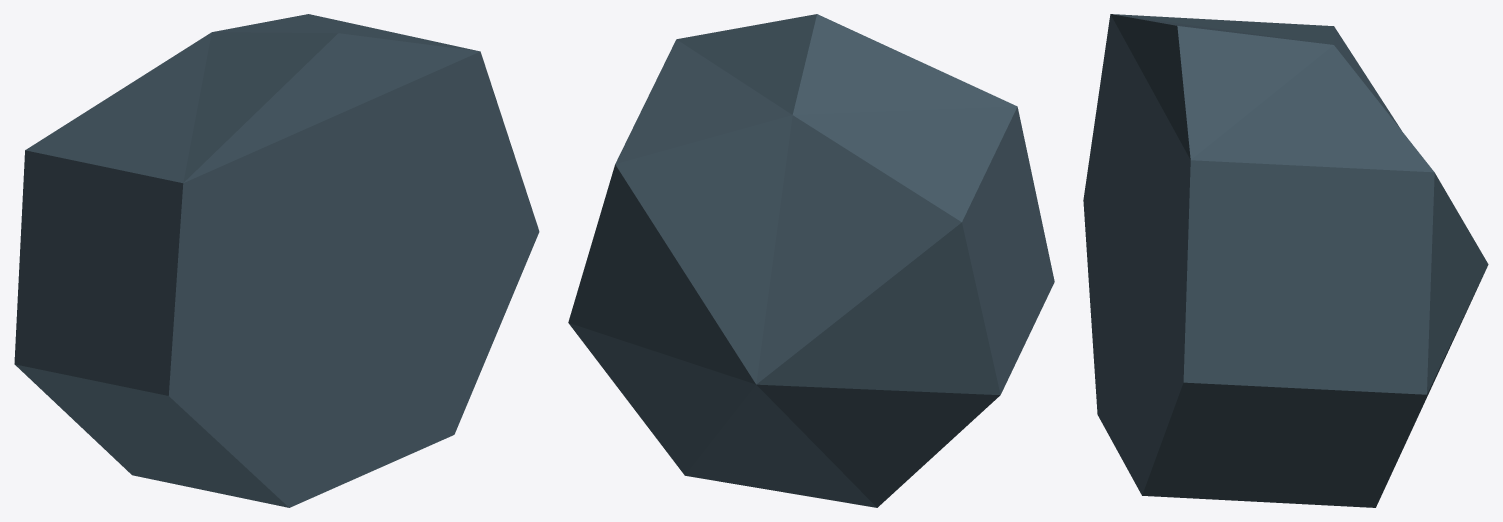
The model's file is Snowman_eye.glb.
The picture shows the model from 3 angles, left to right: view 1: azimuth 30°, elevation 25°; view 2: azimuth 150°, elevation 25°; view 3: azimuth 270°, elevation 25°; orthographic projection. The views are drawn at different scales.
Visible parts, largest first — view 1: group168929574; view 2: group168929574; view 3: group168929574.
Boxes of the visible parts, x1,y1,x2,y2 form: group168929574: [14, 14, 539, 507]; group168929574: [568, 14, 1054, 507]; group168929574: [1083, 14, 1488, 507].
Bounding box in the file's own units: 0.0633 × 0.0595 × 0.0466.
